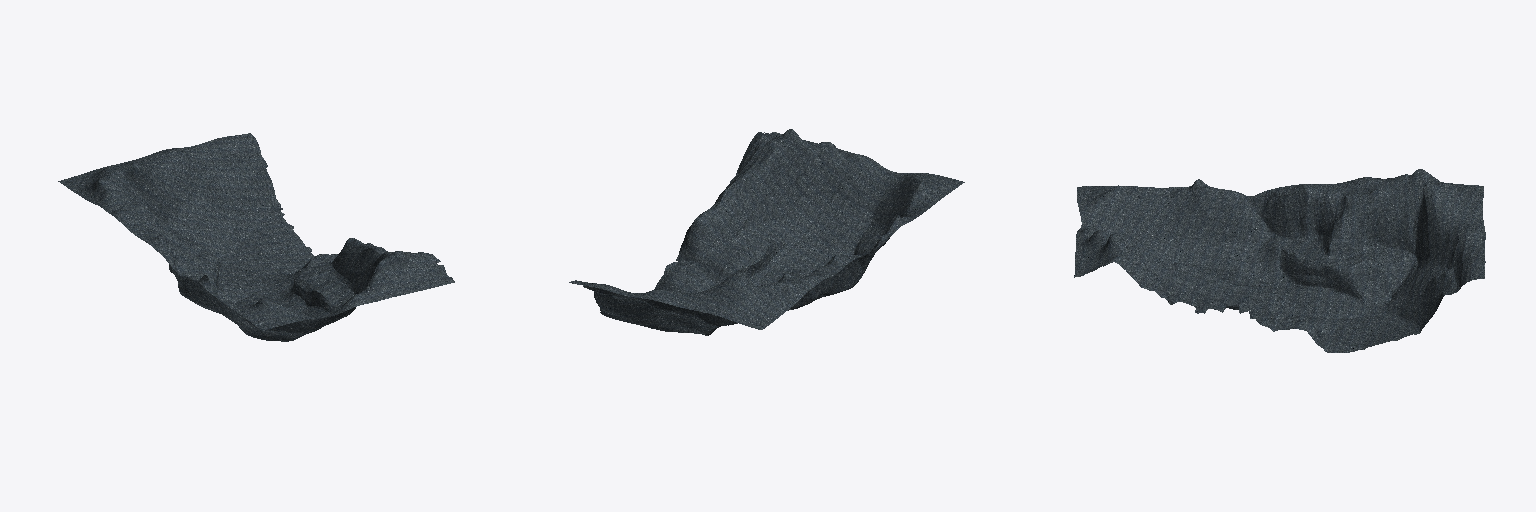
The picture shows the model from 3 angles: view 1: azimuth 30°, elevation 25°; view 2: azimuth 150°, elevation 25°; view 3: azimuth 270°, elevation 25°; orthographic projection.
Visible parts, largest first — view 1: Plane; view 2: Plane; view 3: Plane.
Boxes of the visible parts, <box> form: Plane: <box>58,133,454,341</box>; Plane: <box>569,129,964,335</box>; Plane: <box>1074,169,1485,352</box>.
Size of the model in its own units: 16.69 by 8.32 by 30.24.
1 materials, 1 textured.